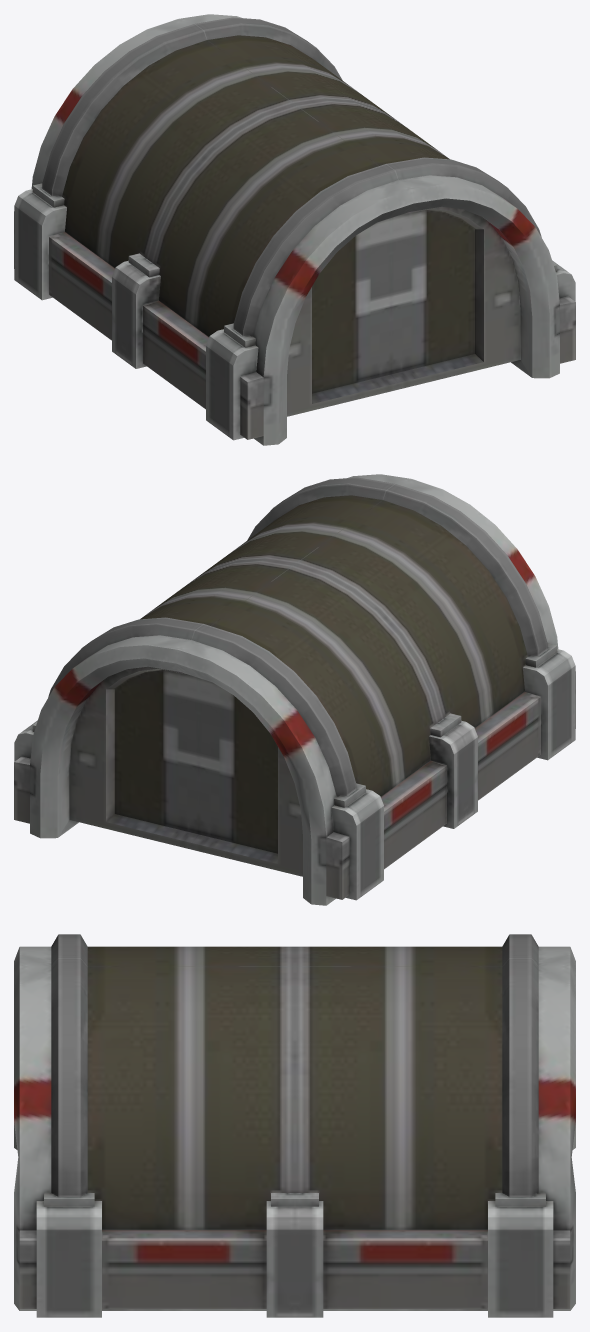
The model's file is Part - Main form 08-CujFOGue.glb.
The picture shows the model from 3 angles, top to bottom: view 1: azimuth 30°, elevation 25°; view 2: azimuth 150°, elevation 25°; view 3: azimuth 270°, elevation 25°; orthographic projection. The views are drawn at different scales.
Visible parts, largest first — view 1: Main_form_08; view 2: Main_form_08; view 3: Main_form_08.
Boxes of the visible parts, x1,y1,x2,y2 form: Main_form_08: (14,14,575,445); Main_form_08: (14,474,575,905); Main_form_08: (14,934,575,1317).
Bounding box in the file's own units: 3.1 × 1.96 × 3.74.
Materials: 1 (1 with a texture image).
